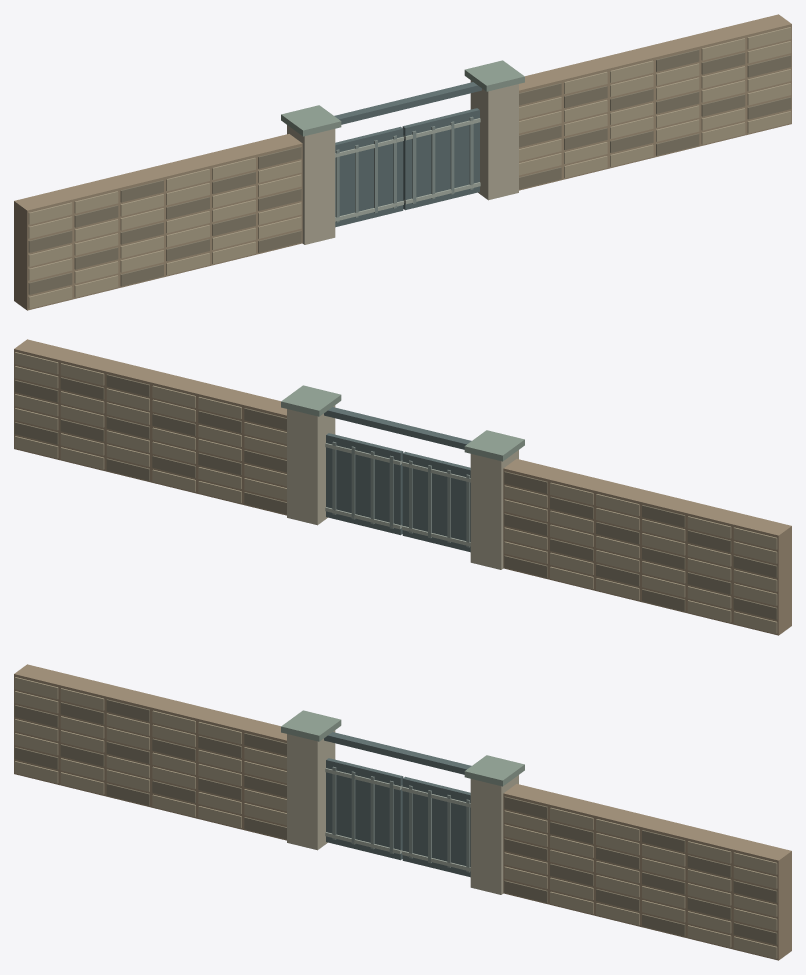
Rendered from wall-gate.glb.
3 views of the same model, one above another, from view 1: azimuth 30°, elevation 25°; view 2: azimuth 150°, elevation 25°; view 3: azimuth 330°, elevation 25° (orthographic).
Parts seen in each view (by area): view 1: wall-gate; view 2: wall-gate; view 3: wall-gate.
Boxes of the visible parts, left/top/right/bottom form: wall-gate: left=14, top=14, right=791, bottom=310; wall-gate: left=14, top=339, right=791, bottom=635; wall-gate: left=14, top=664, right=791, bottom=960.
Size of the model in its own units: 20 by 2.92 by 1.
